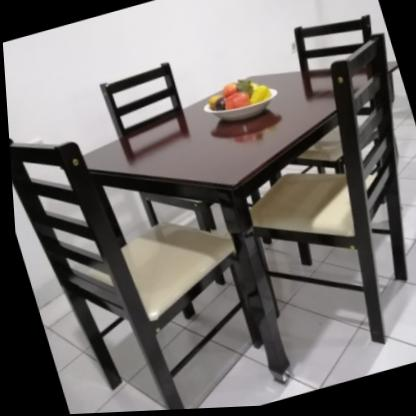Dining Table: (1, 0, 416, 416)
